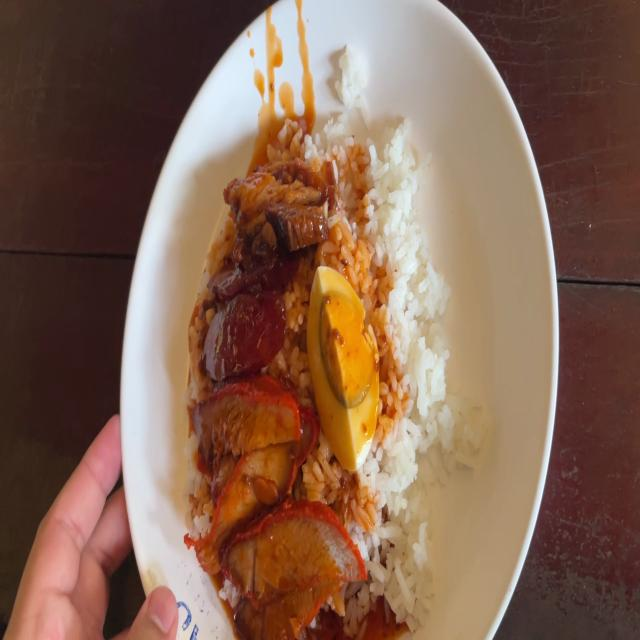01boiled_egg: (313, 267, 379, 471)
01chainese_sausage: (199, 264, 294, 364)
01crispy_pork: (228, 161, 338, 241)
01red_pork: (193, 384, 329, 630)
01red_pork_and_crispy_pork: (191, 120, 451, 635)
01rice: (379, 270, 448, 510), (337, 126, 426, 267), (380, 514, 437, 608)
